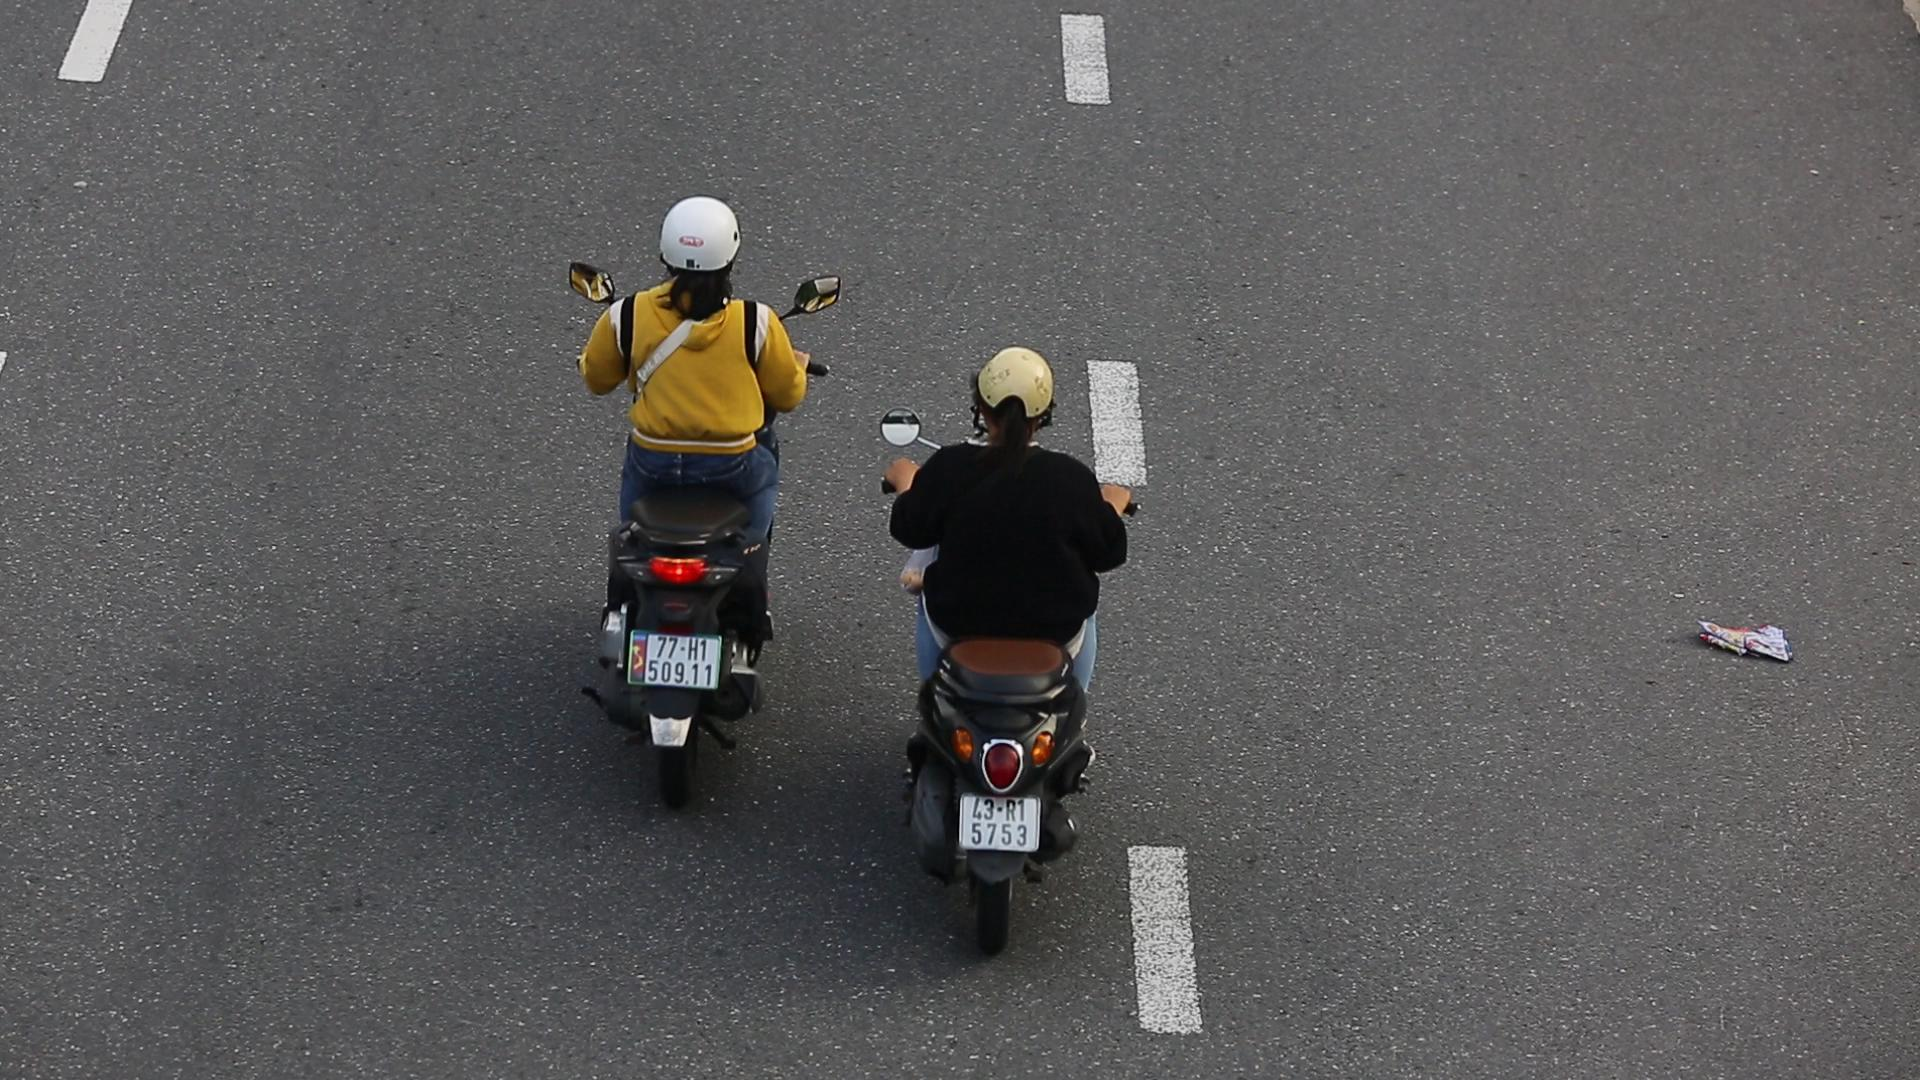motobike: (832, 295, 1138, 961), (568, 181, 855, 828)
